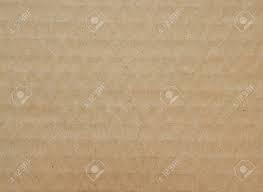Cardboard: (2, 2, 263, 192)
